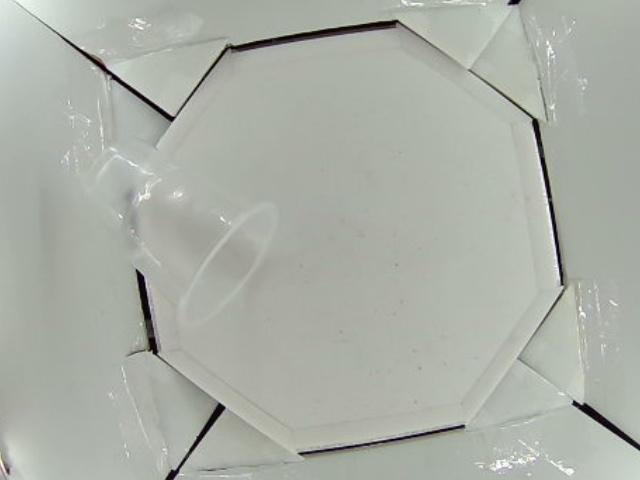Cup: (85, 135, 264, 322)
